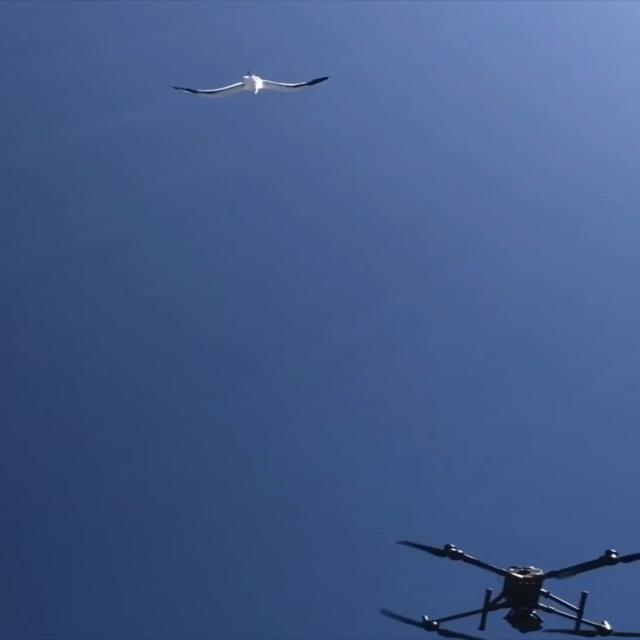bird: (168, 70, 331, 98)
drone: (378, 539, 638, 639)
